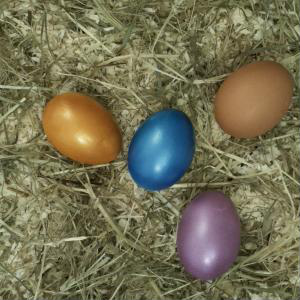egg: (213, 60, 295, 139), (176, 191, 241, 281), (42, 93, 122, 164), (126, 109, 195, 191)
